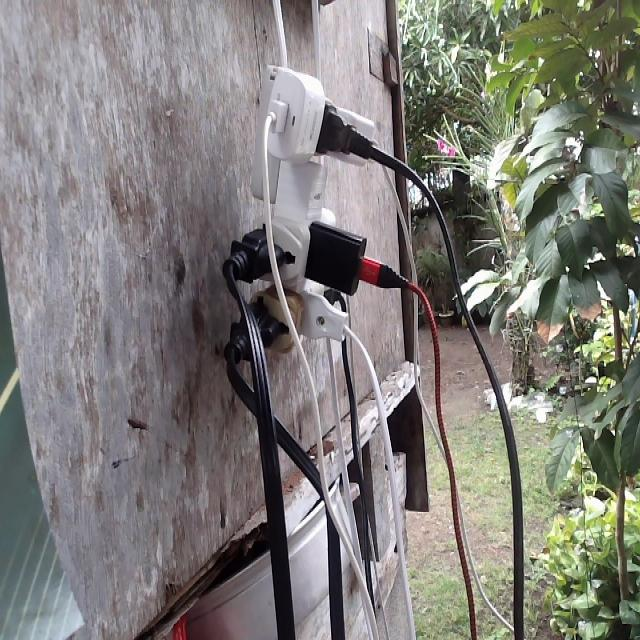-: (231, 62, 384, 350)
